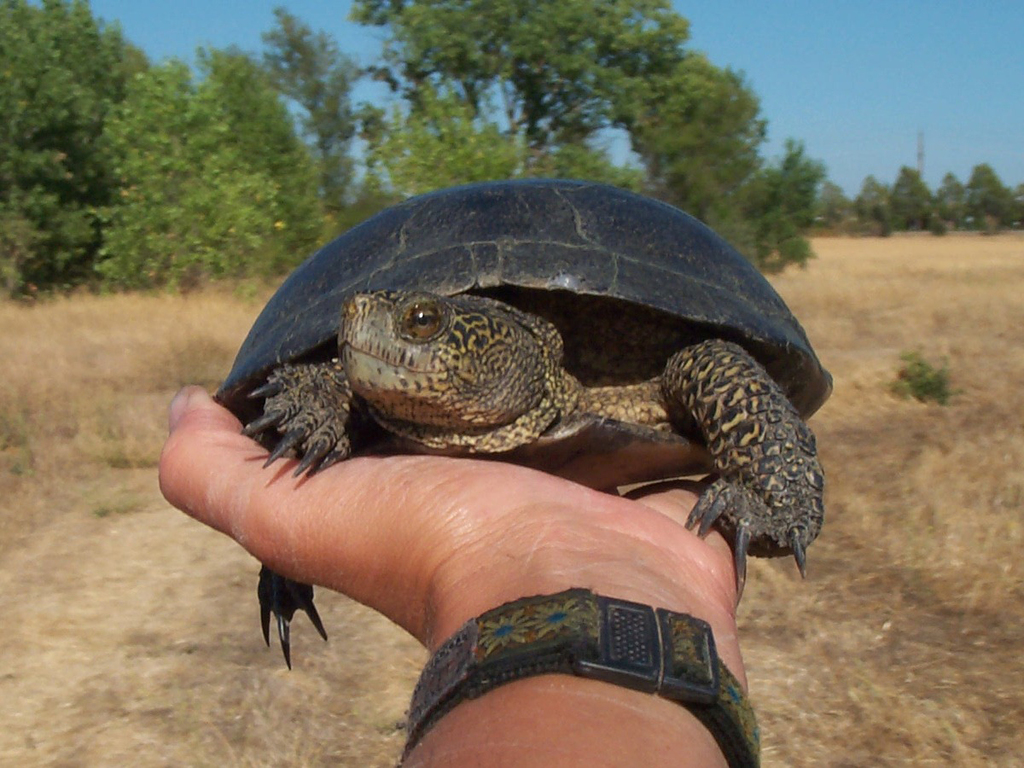Sea turtles: (215, 181, 837, 666)
